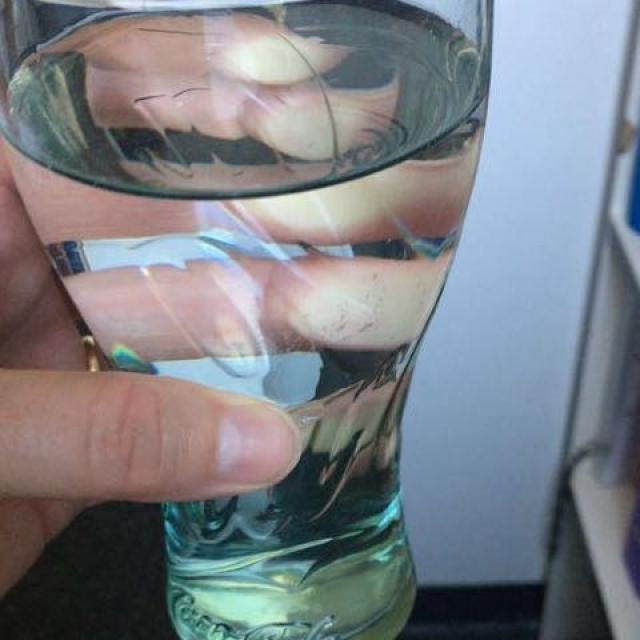water: (0, 22, 479, 616)
